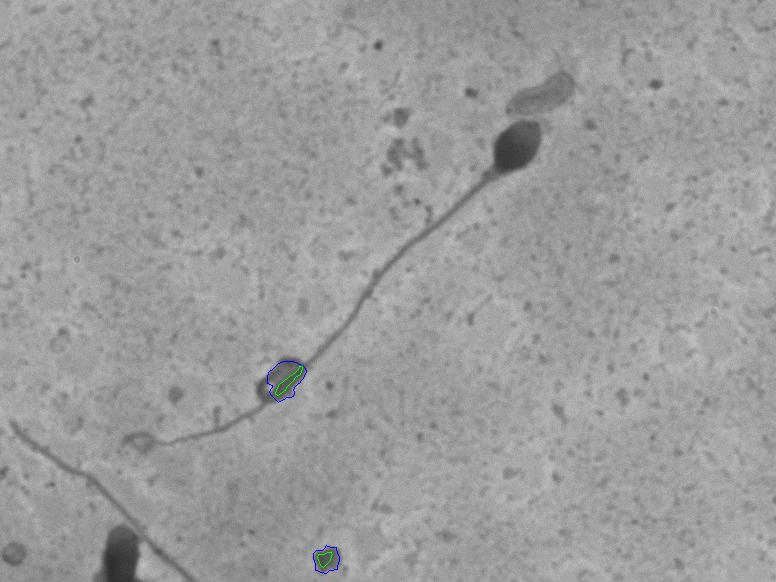Normal: (142, 114, 626, 525)
